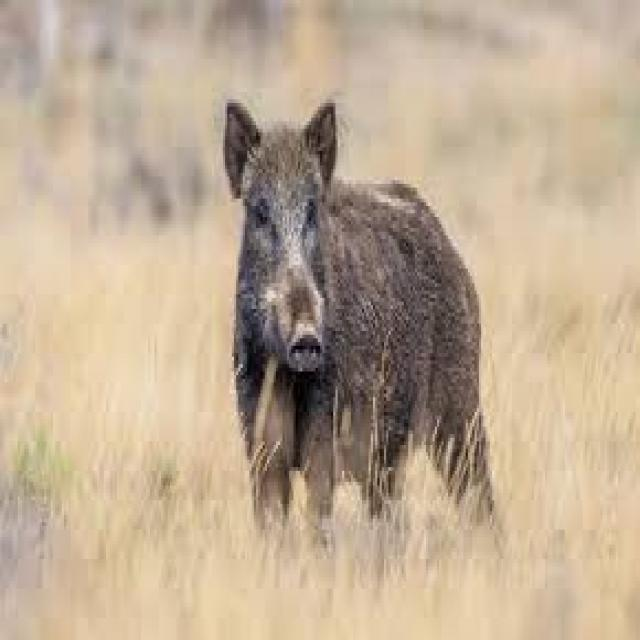boar: (170, 44, 550, 633)
